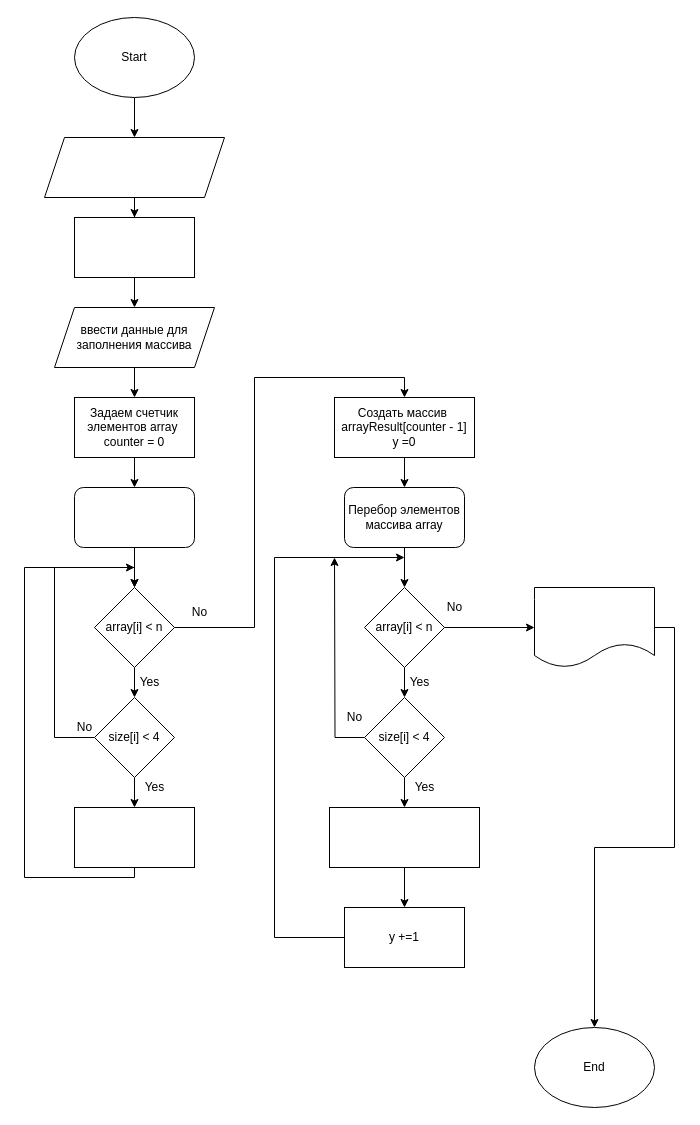
Some shapes in this 700 by 1125 pixel diagram are drawn without their labels. Here are the shapes that lost their labels. From the top down, the centre of each, then its label:
the point at 134,167: Ввести кол-во элементов массива (n)
the point at 134,247: Создать массив из n элементов array[n]
the point at 134,517: Перебор элементов array
the point at 594,627: Вывод arrayResult
the point at 134,837: counter += 1
the point at 404,837: arrayResult[y] = array[i]
